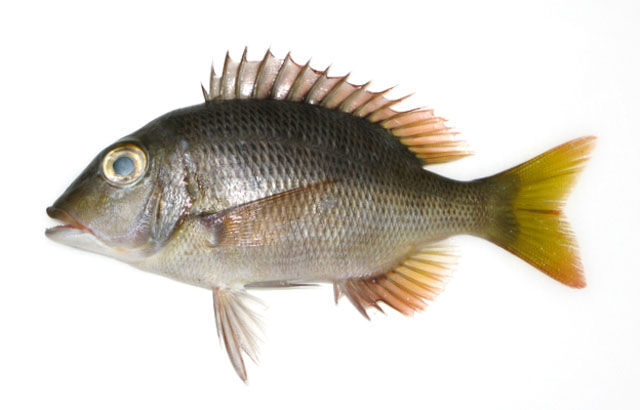fish: (44, 44, 599, 388)
